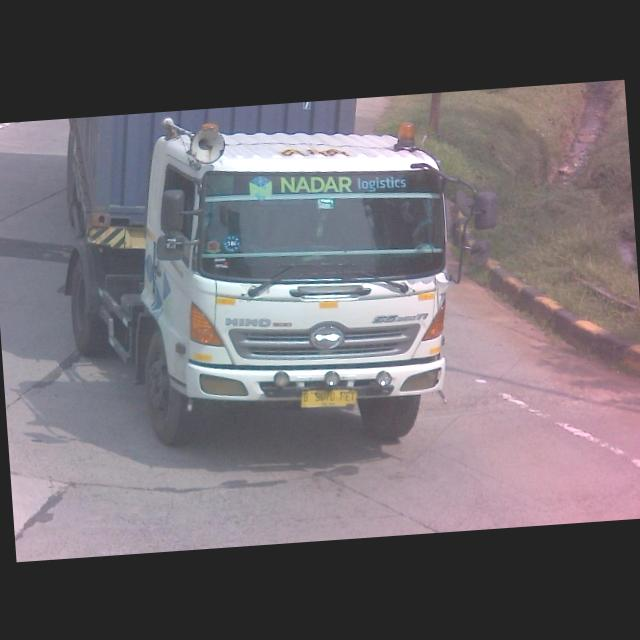plate: (299, 384, 358, 411)
